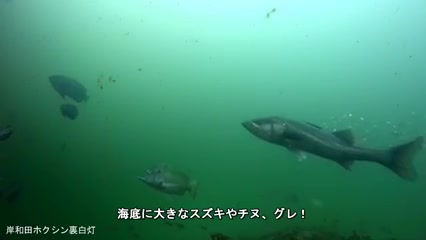kurodai: (135, 159, 203, 203)
smallfish: (45, 72, 92, 105)
suzuki: (232, 109, 426, 183)
